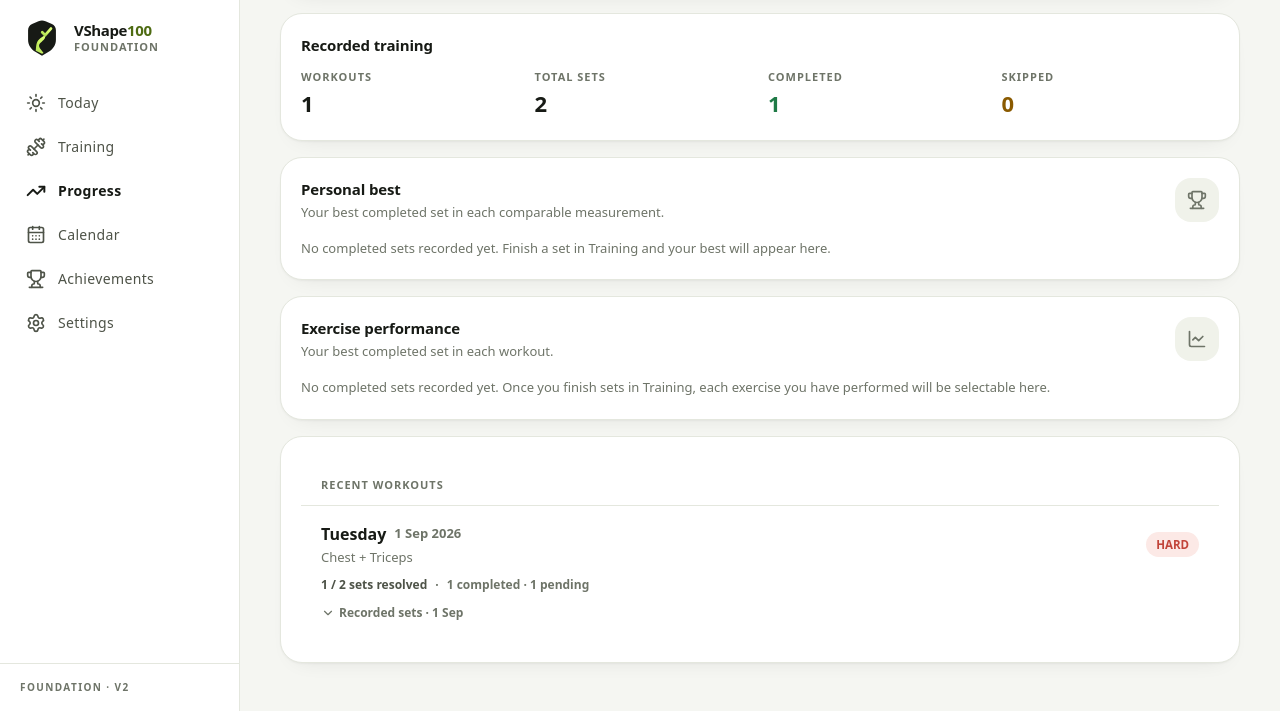
Test: correcting a recorded set › does not claim a correction happened when nothing changed
(page scrolled)
What coordinates should you click on to do the following:
click the button "Recorded sets · 1 Sep"
I would click on:
 (392, 613)
Its box is [321,604,463,622].
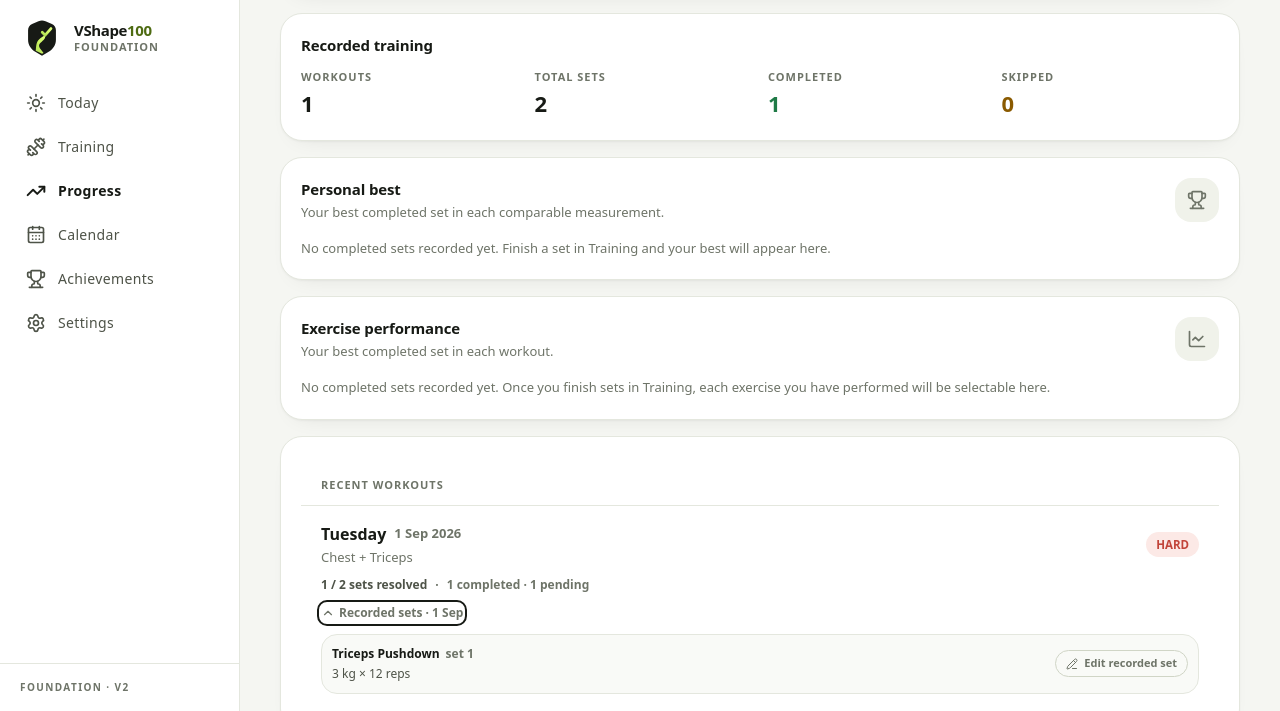
What coordinates should you click on to do the following:
click the button "Edit recorded set"
I would click on:
 (1122, 664)
Its box is [1055,650,1188,677].
(page scrolled)
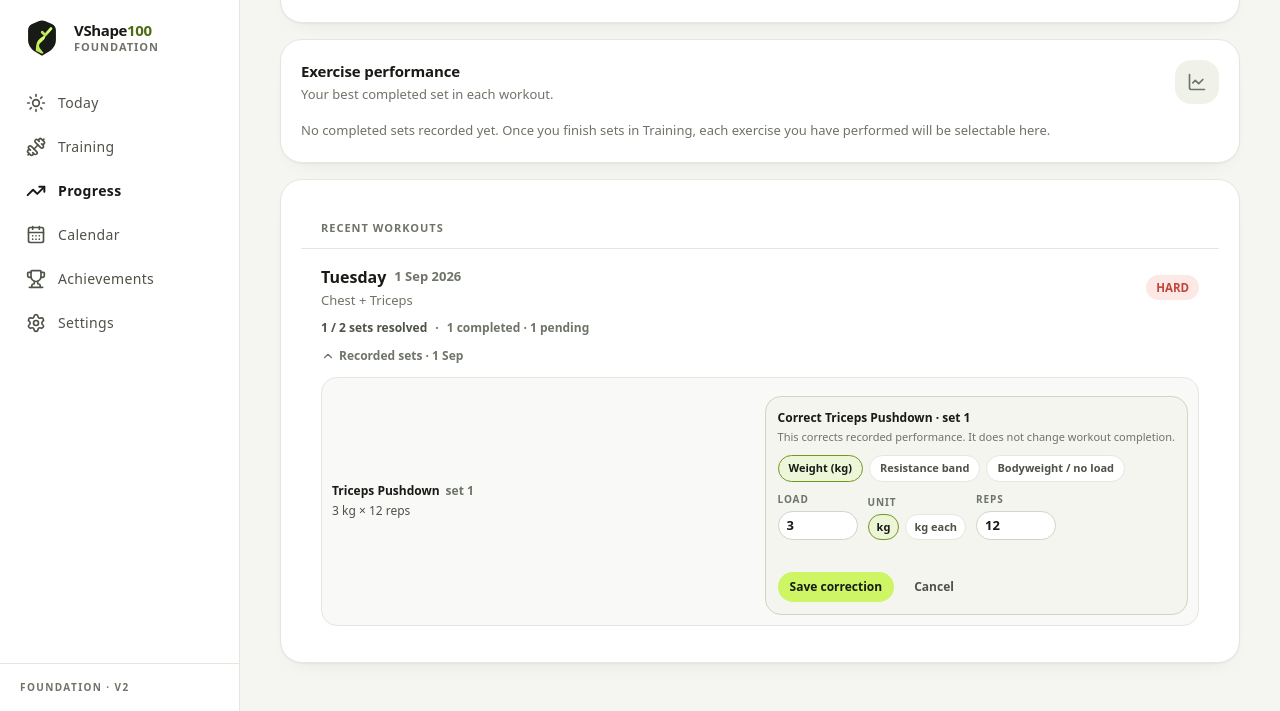
What coordinates should you click on to do the following:
click the button "Save correction"
I would click on:
 (836, 587)
Its box is [778,572,894,602].
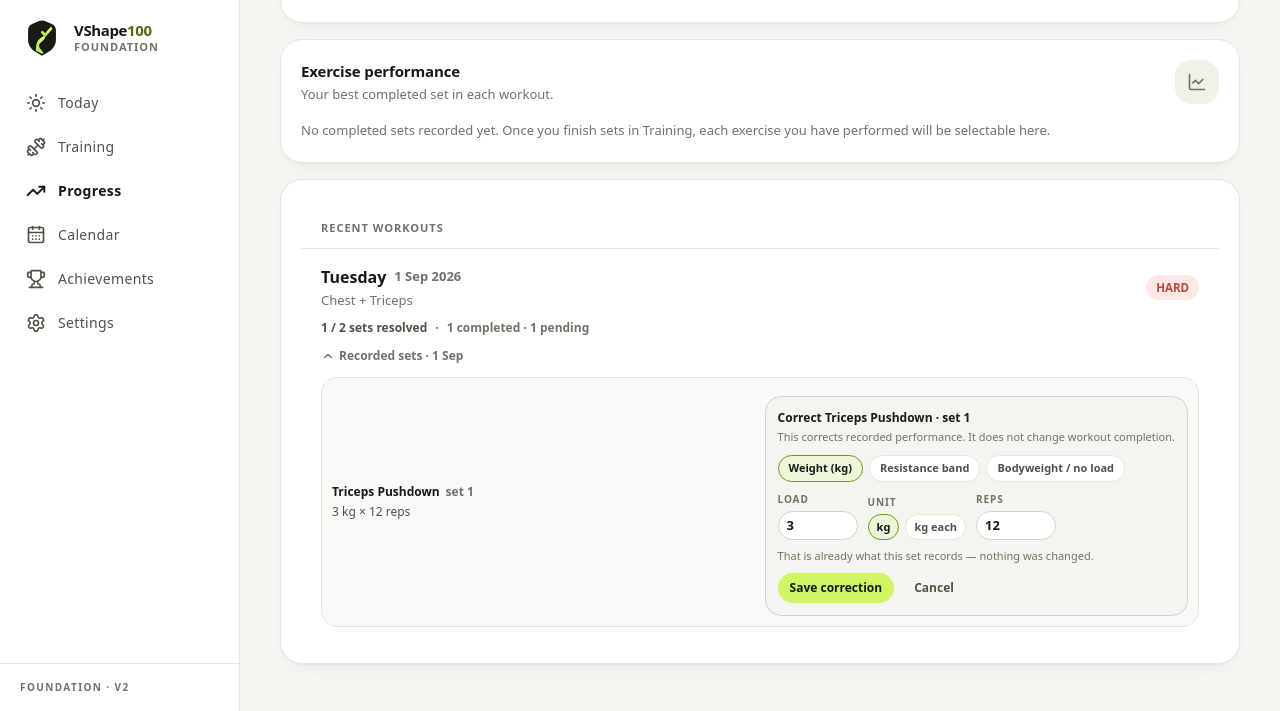
Expected: the text "That is already what this set records — nothing was changed." is shown, [778,548,1094,563]
